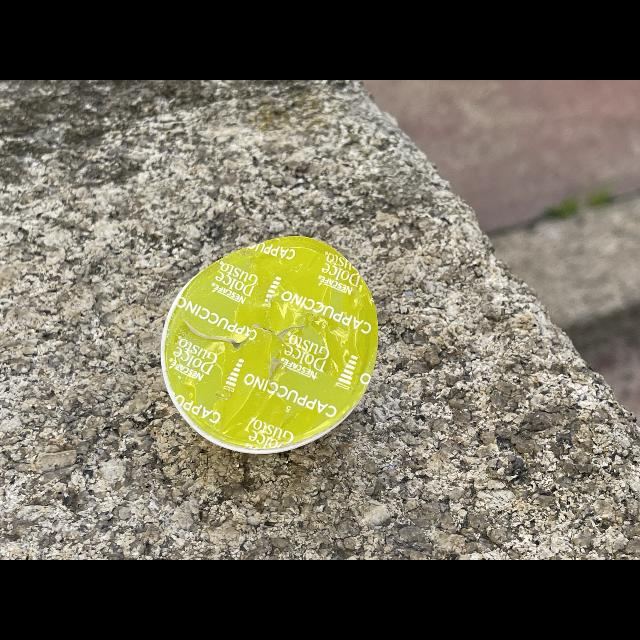damaged_capsule: (149, 230, 395, 460)
